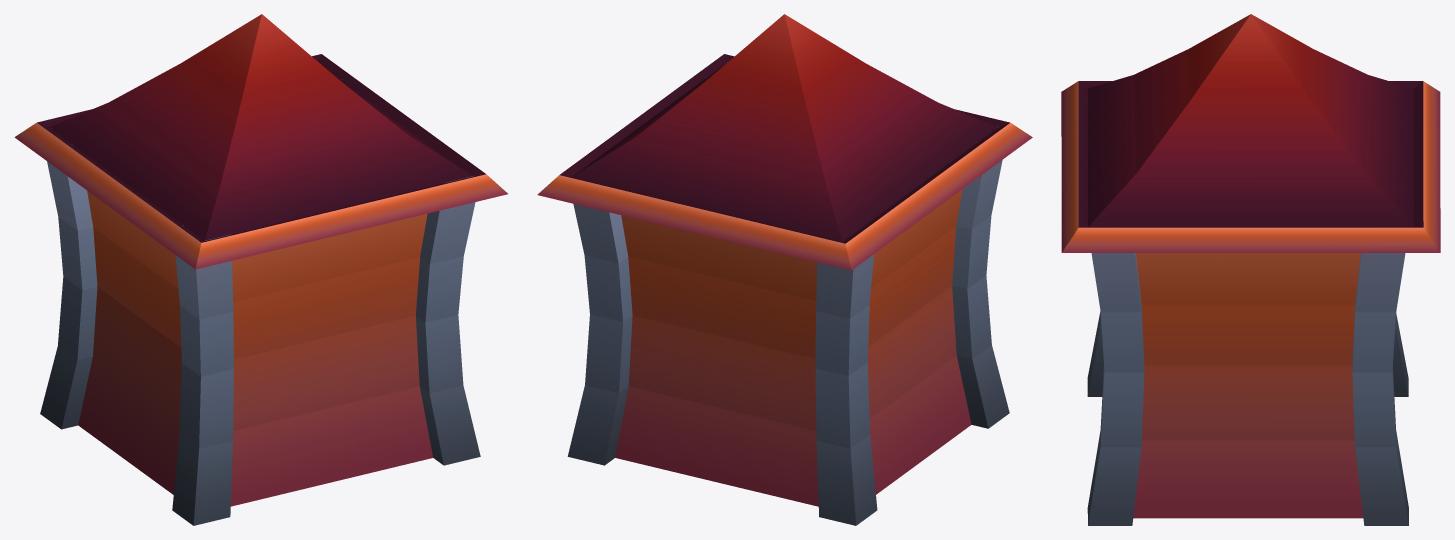
The model's file is House Body 2.fbx.
3 views of the same model, side by side, from view 1: azimuth 30°, elevation 25°; view 2: azimuth 150°, elevation 25°; view 3: azimuth 270°, elevation 25° (orthographic). The views are drawn at different scales.
Parts seen in each view (by area): view 1: House Body 2; view 2: House Body 2; view 3: House Body 2.
Boxes of the visible parts, box(x1,y1,x2,y2) form: House Body 2: box(14, 14, 507, 525); House Body 2: box(537, 14, 1032, 525); House Body 2: box(1061, 14, 1440, 525).
Size of the model in its own units: 357 by 457 by 357.
